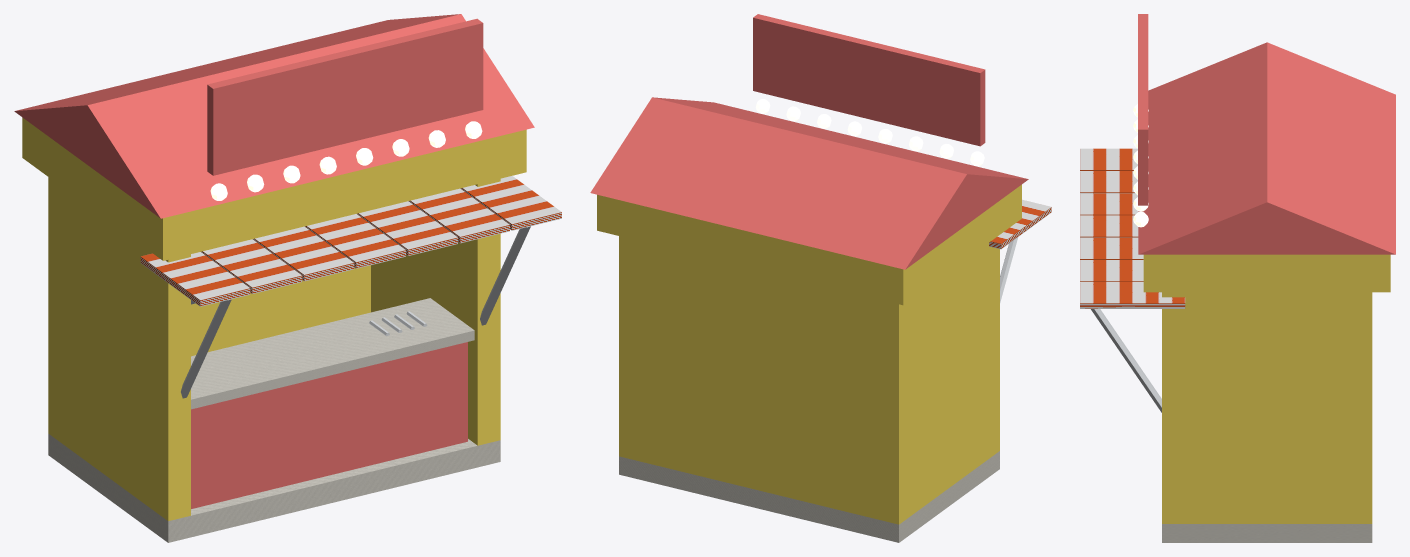
File: theme-park-rides-and-coasters-theme-park-rides-and-coa-55e52c8d.glb
The picture shows the model from 3 angles, left to right: view 1: azimuth 30°, elevation 25°; view 2: azimuth 150°, elevation 25°; view 3: azimuth 270°, elevation 25°; orthographic projection. The views are drawn at different scales.
Parts seen in each view (by area): view 1: theme-park-rides-and-coasters-balloon-dart-stall; view 2: theme-park-rides-and-coasters-balloon-dart-stall; view 3: theme-park-rides-and-coasters-balloon-dart-stall.
Part boxes in pixels (x1=…): theme-park-rides-and-coasters-balloon-dart-stall: x1=14, y1=14, x2=561, y2=542; theme-park-rides-and-coasters-balloon-dart-stall: x1=590, y1=14, x2=1051, y2=542; theme-park-rides-and-coasters-balloon-dart-stall: x1=1080, y1=14, x2=1395, y2=542.
Size of the model in its own units: 3.6 by 4.2 by 3.01.
10 materials, 3 textured.
